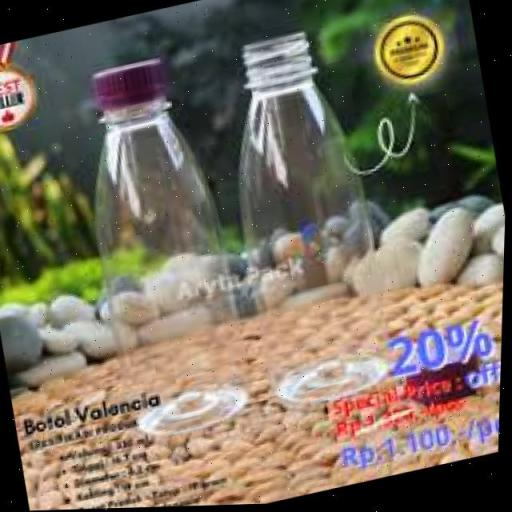plastic: (91, 62, 252, 437), (239, 32, 394, 411)
